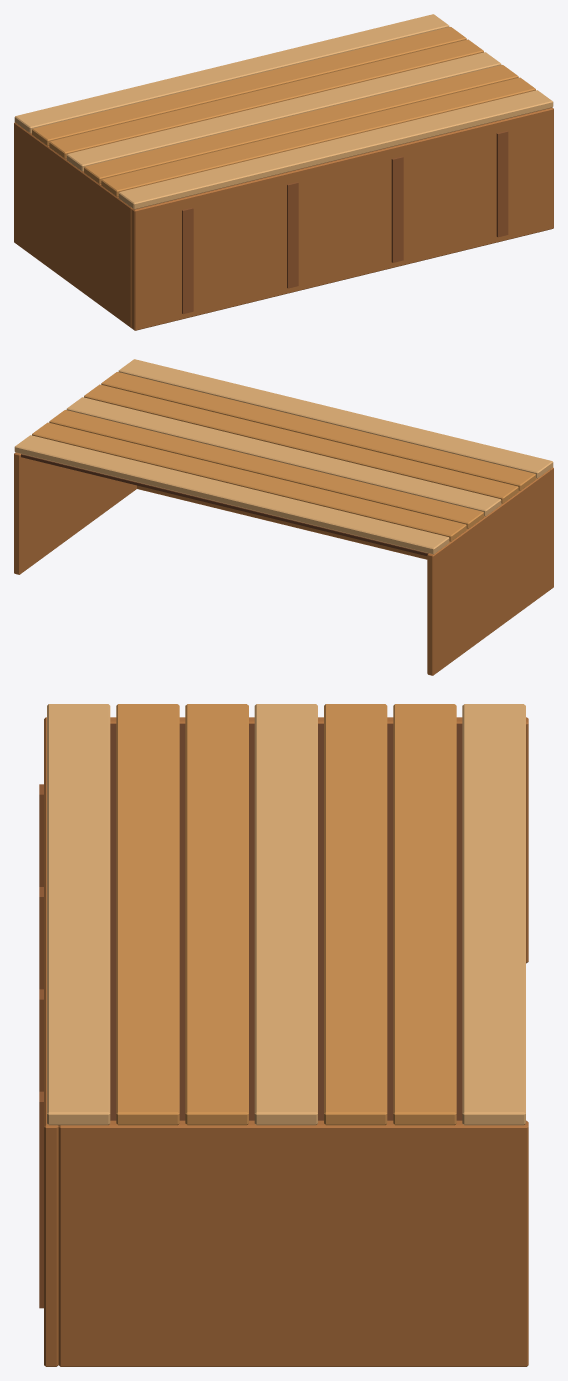
File: deck_2x1m_h60.glb
3 views of the same model, one above another, from view 1: azimuth 30°, elevation 25°; view 2: azimuth 150°, elevation 25°; view 3: azimuth 270°, elevation 25° (orthographic). The views are drawn at different scales.
Visible parts, largest first — view 1: deck_2x1m_h60; view 2: deck_2x1m_h60; view 3: deck_2x1m_h60.
Part boxes in pixels (x1,y1,x2,y2): deck_2x1m_h60: (14,14,553,330); deck_2x1m_h60: (14,359,553,675); deck_2x1m_h60: (39,704,528,1366).
Size of the model in its own units: 2 by 0.58 by 1.01.
Materials: 1 (1 with a texture image).
